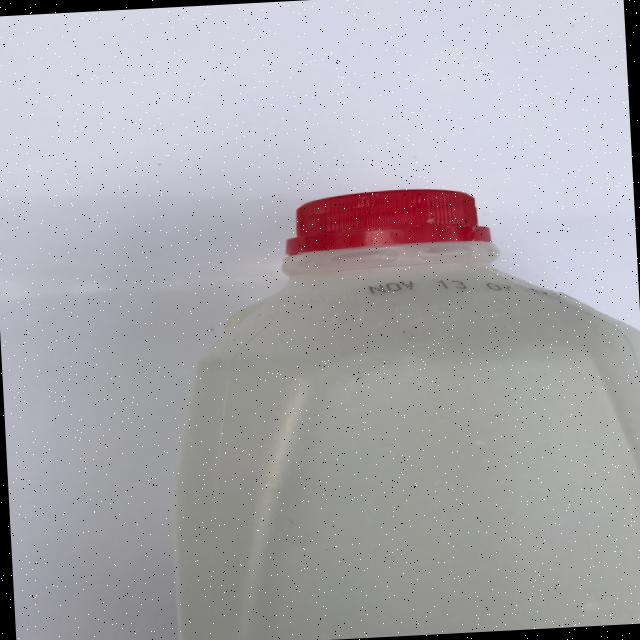plastic: (154, 176, 640, 640)
